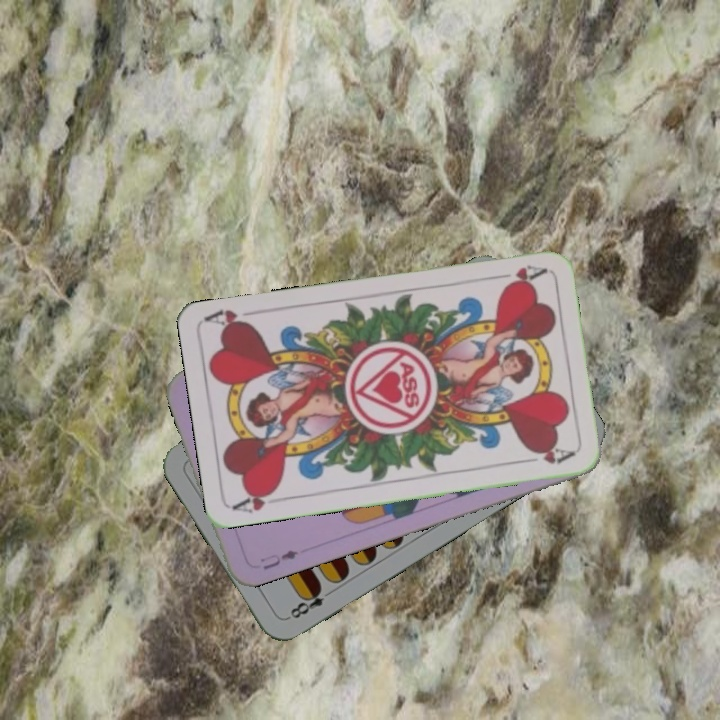E8: (283, 582, 336, 622)
EU: (256, 545, 301, 572)
HA: (230, 485, 288, 516), (489, 260, 548, 290)
